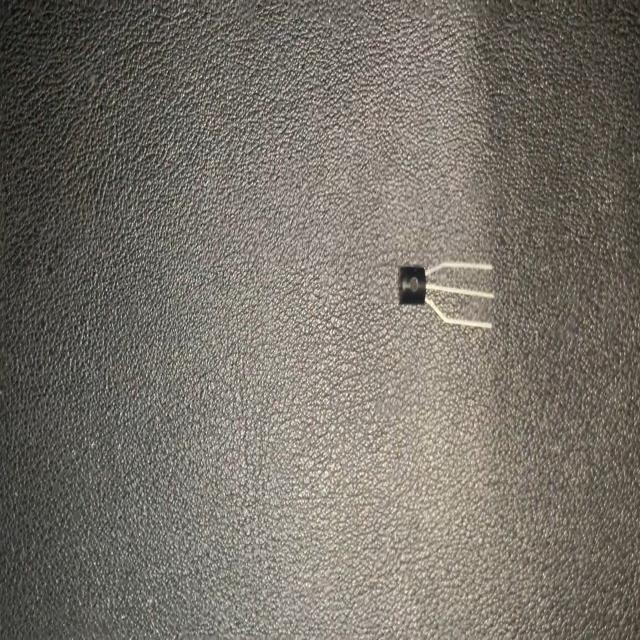BJT: (399, 249, 494, 337)
